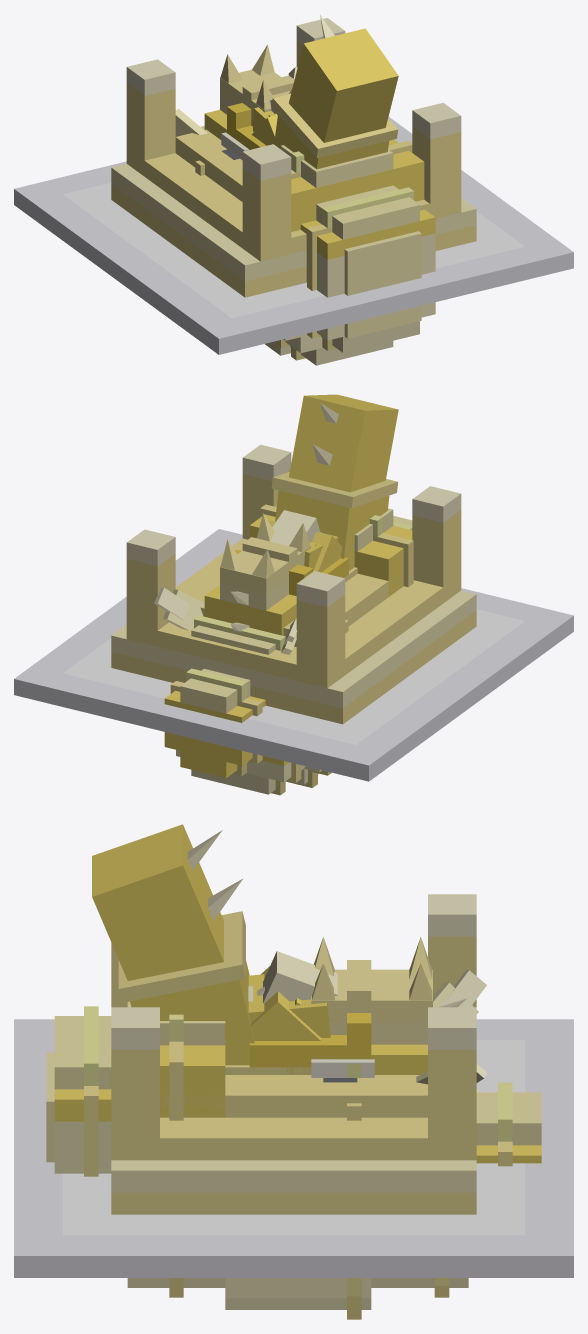
File: Trainer9.glb
3 views of the same model, one above another, from view 1: azimuth 30°, elevation 25°; view 2: azimuth 150°, elevation 25°; view 3: azimuth 270°, elevation 25° (orthographic). The views are drawn at different scales.
Visible parts, largest first — view 1: Stand, Body, Head, T1; view 2: Stand, Body, Head, Fin, T1; view 3: Stand, Body, Head, Fin, T1, T2.
Boxes of the visible parts, bbox=[...] form: Stand: bbox=[14, 18, 573, 354]; Body: bbox=[195, 14, 435, 365]; Head: bbox=[175, 45, 297, 160]; T1: bbox=[251, 115, 277, 145]; Stand: bbox=[14, 444, 573, 781]; Body: bbox=[164, 394, 413, 795]; Head: bbox=[154, 513, 310, 654]; Fin: bbox=[270, 510, 321, 545]; T1: bbox=[268, 520, 341, 572]; Stand: bbox=[14, 894, 573, 1277]; Body: bbox=[46, 824, 541, 1319]; Head: bbox=[287, 937, 486, 1093]; Fin: bbox=[248, 951, 337, 1003]; T1: bbox=[251, 966, 321, 1040]; T2: bbox=[248, 974, 330, 1037].
Bounding box in the file's own units: 9.2 × 8.36 × 9.2.
